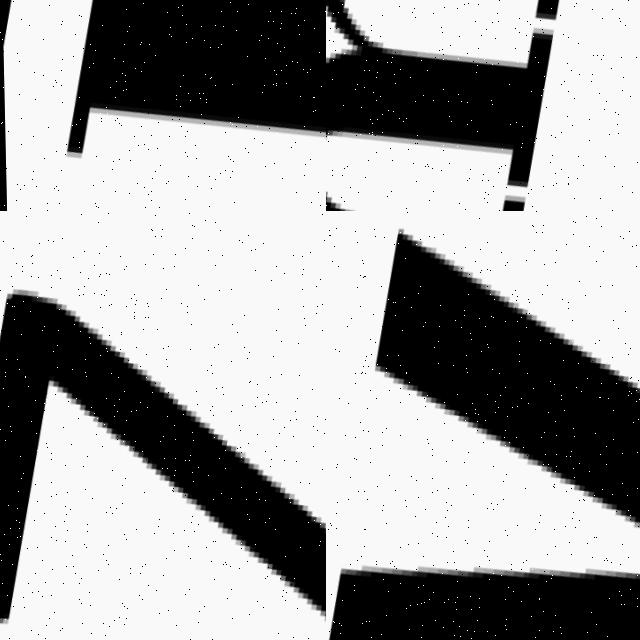7: (0, 254, 326, 640)
L: (37, 0, 326, 211)
M: (326, 0, 594, 211)
V: (326, 211, 640, 640)
